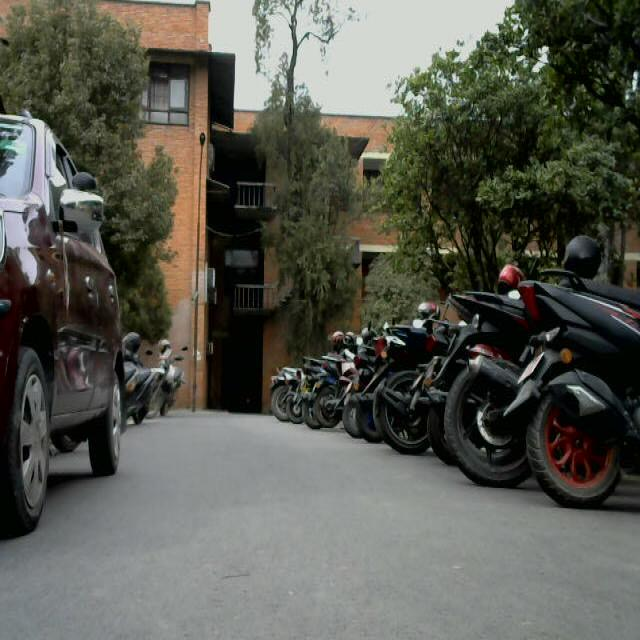Bike: (499, 257, 640, 509), (359, 285, 448, 455), (131, 332, 205, 444)
Car: (1, 107, 129, 530)
Pole: (180, 122, 216, 426)
Road: (60, 417, 594, 640)
trees: (399, 0, 639, 254), (255, 0, 378, 376)
